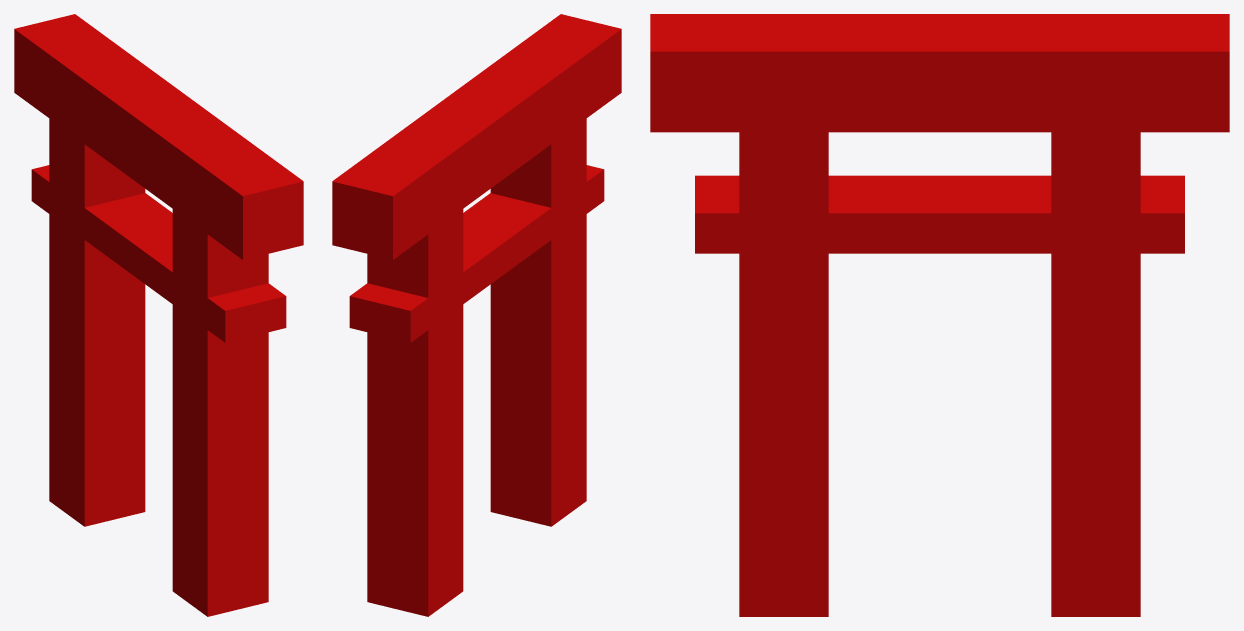
File: Torii.fbx
3 views of the same model, side by side, from view 1: azimuth 30°, elevation 25°; view 2: azimuth 150°, elevation 25°; view 3: azimuth 270°, elevation 25° (orthographic). The views are drawn at different scales.
Visible parts, largest first — view 1: Torii; view 2: Torii; view 3: Torii.
Boxes of the visible parts, <box> form: Torii: <box>14,14,303,616</box>; Torii: <box>332,14,621,616</box>; Torii: <box>650,14,1229,616</box>.
Size of the model in its own units: 0.9294 by 6.51 by 6.04.
